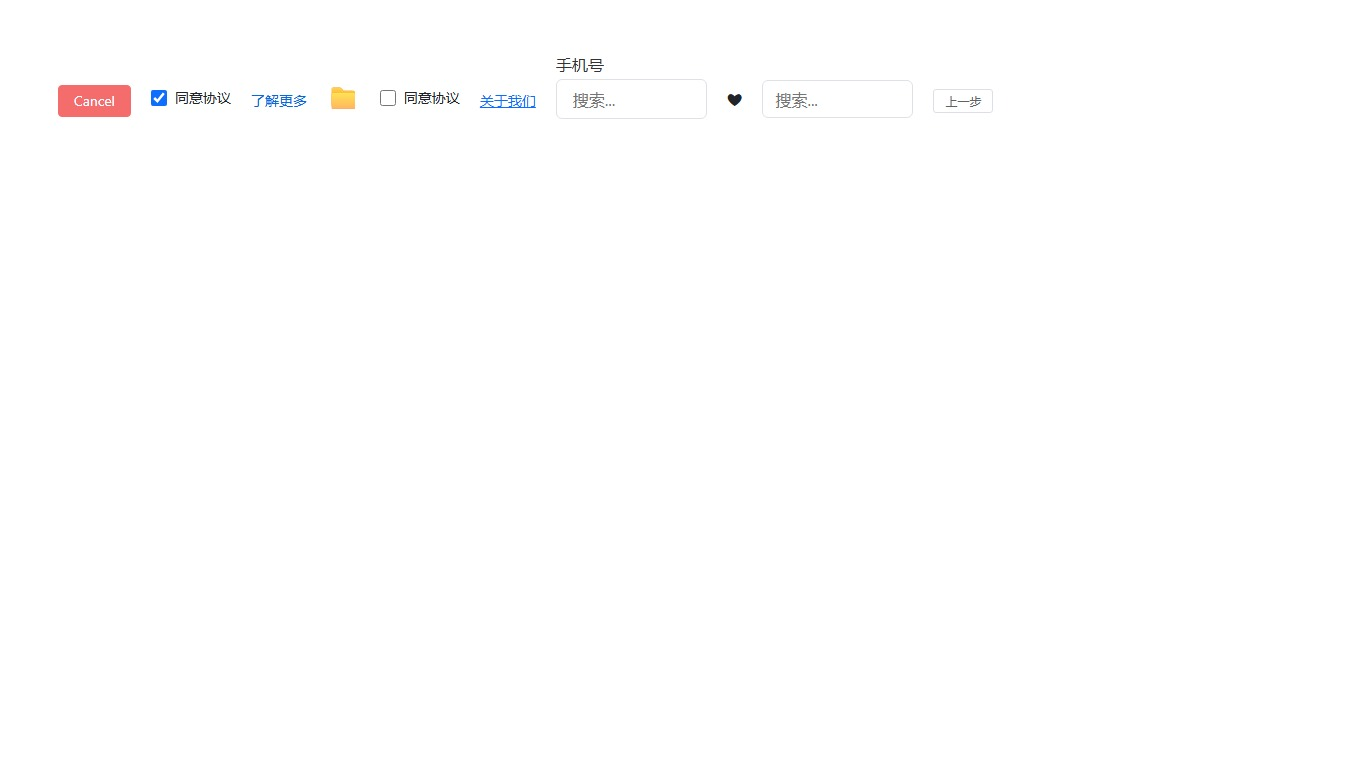button: (58, 84, 131, 116), (933, 88, 993, 112)
checkbox: (151, 90, 167, 105), (380, 90, 396, 105)
icon: (175, 88, 231, 107), (404, 88, 460, 107), (327, 84, 360, 108), (727, 91, 742, 107)
input: (556, 79, 707, 119), (762, 80, 913, 118)
link: (251, 90, 307, 109), (480, 90, 536, 109)
radio: (151, 88, 231, 107), (380, 88, 460, 107)
